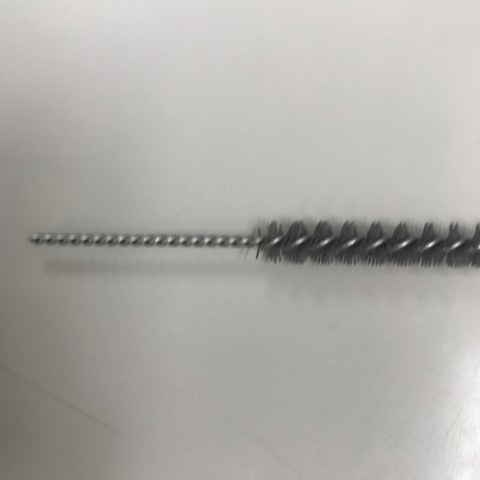Twist Brush-A: (43, 220, 477, 271)
